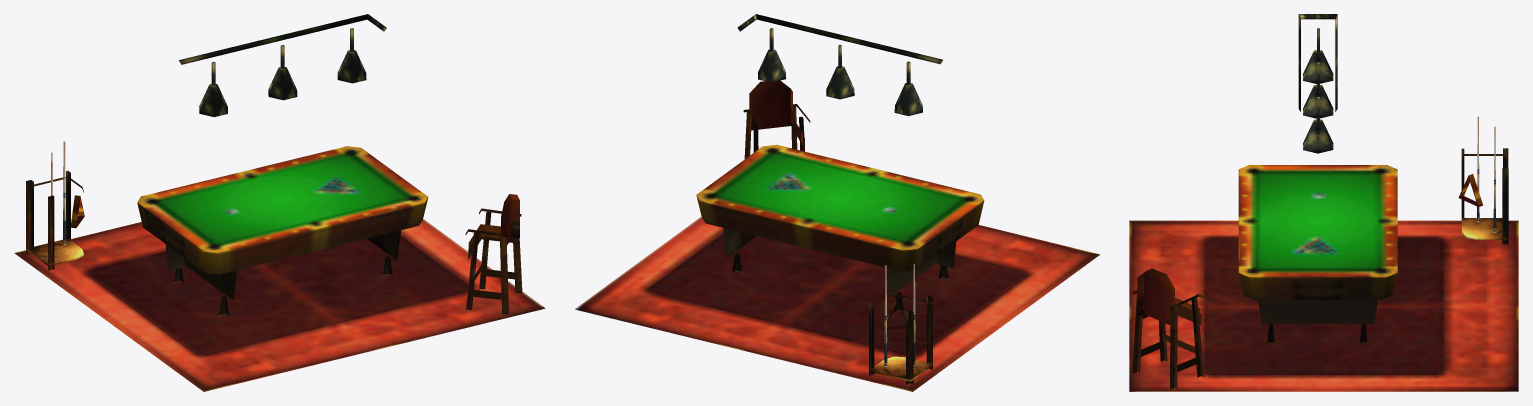
The model's file is ball.ico.obj.
The picture shows the model from 3 angles, left to right: view 1: azimuth 30°, elevation 25°; view 2: azimuth 150°, elevation 25°; view 3: azimuth 270°, elevation 25°; orthographic projection. The views are drawn at different scales.
Size of the model in its own units: 3.67 by 2.45 by 3.53.
Materials: 1 (1 with a texture image).
